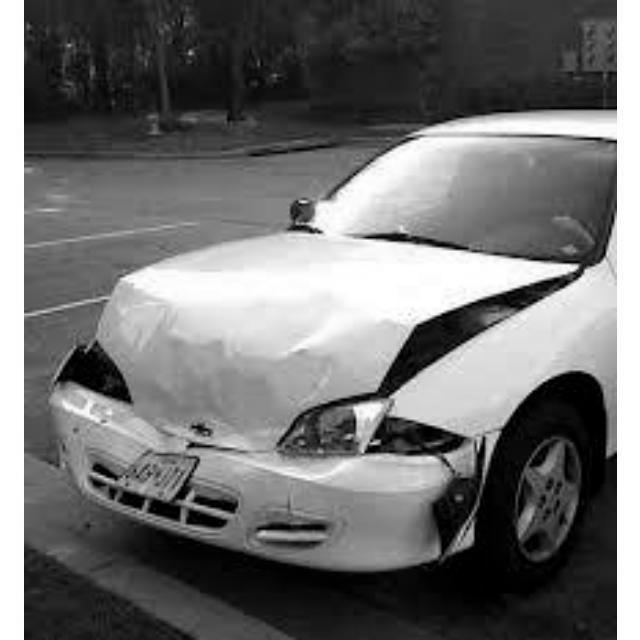bonnet-dent: (103, 242, 399, 431)
front-bumper-dent: (46, 418, 331, 549)
